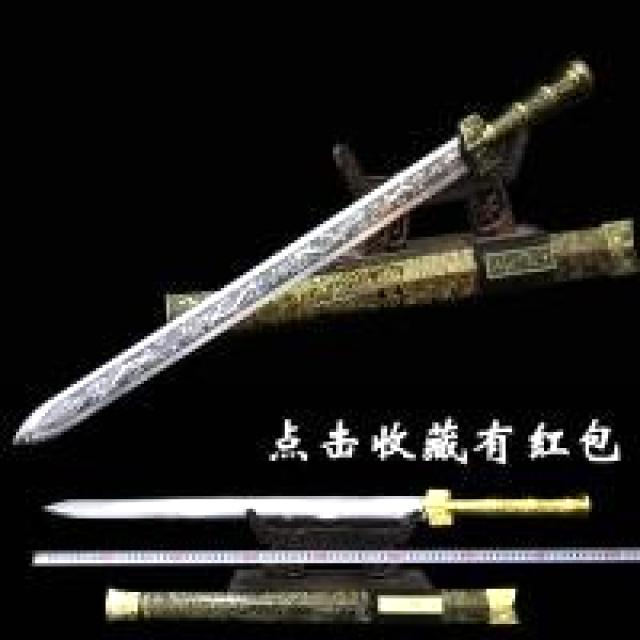long sword: (11, 54, 598, 446), (40, 483, 591, 531)
